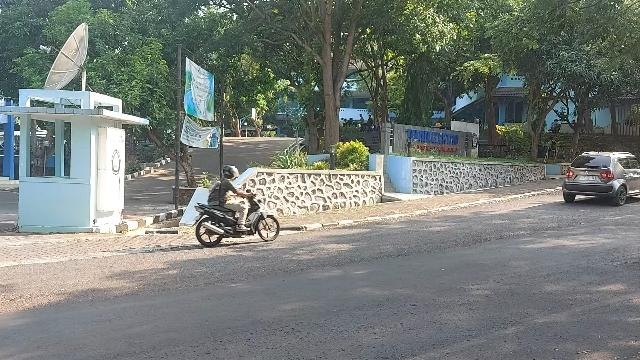helm: (222, 167, 240, 180)
motor: (194, 191, 281, 248)
